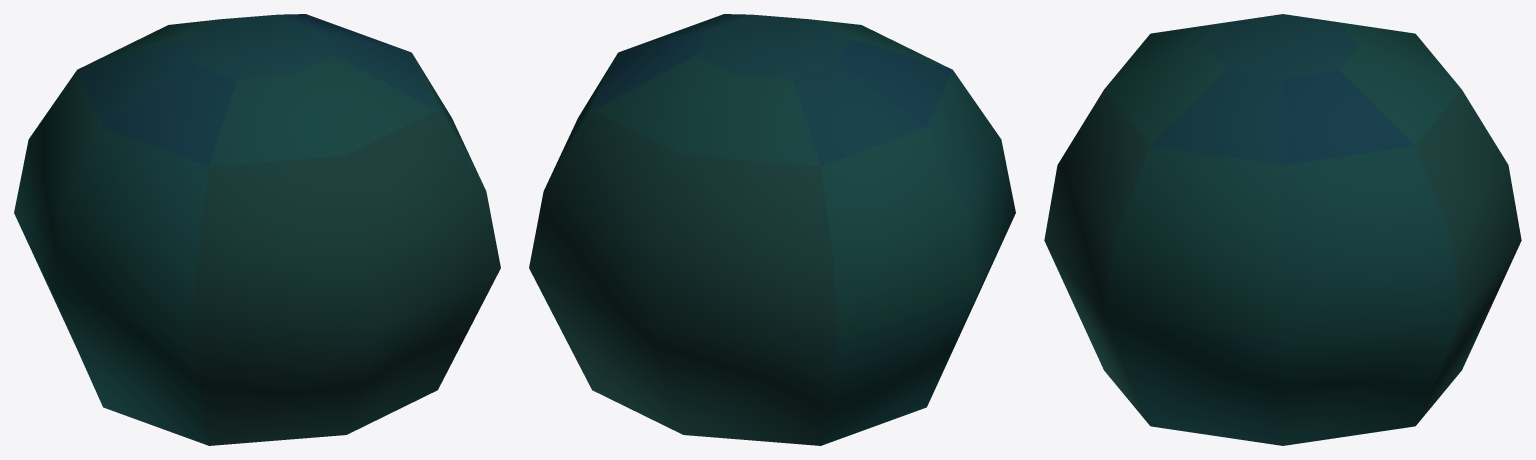
File: s@slime_Damaged.fbx
The picture shows the model from 3 angles, left to right: view 1: azimuth 30°, elevation 25°; view 2: azimuth 150°, elevation 25°; view 3: azimuth 270°, elevation 25°; orthographic projection.
Parts seen in each view (by area): view 1: Mesh; view 2: Mesh; view 3: Mesh.
Boxes of the visible parts, x1,y1,x2,y2 form: Mesh: (14,14,500,445); Mesh: (529,14,1015,445); Mesh: (1044,14,1521,445).
Bounding box in the file's own units: 100 × 74.89 × 100.
